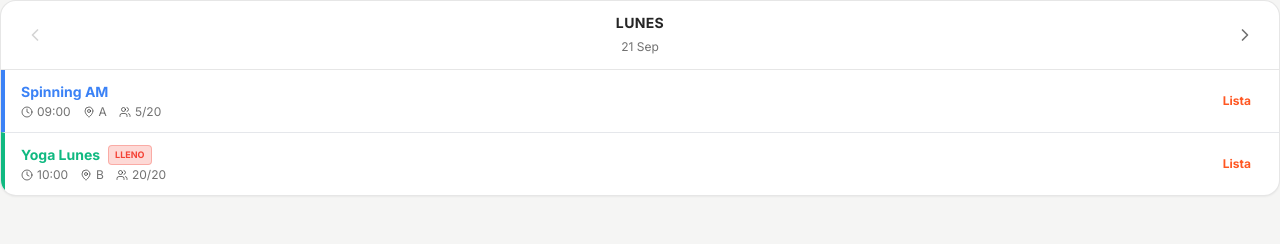
it: ClassCalendarView › agenda: next day button navigates to Martes
This screenshot has width=1280, height=244.
Click the button named "next day" at coordinates (1245, 35), box [1227,17,1263,53]
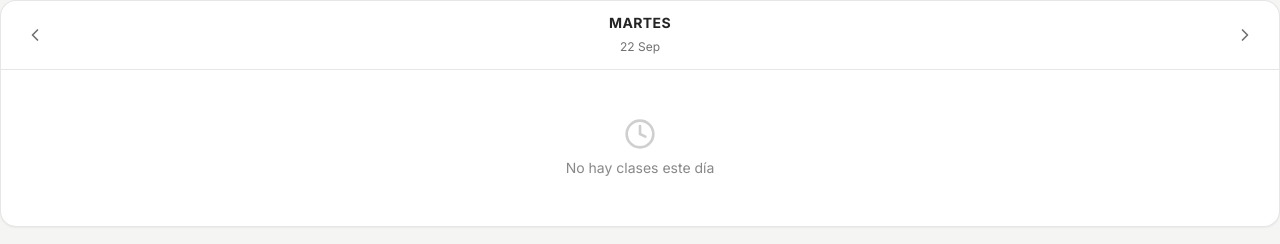
Expected: the text "Martes" is shown, [609,13,671,33]
